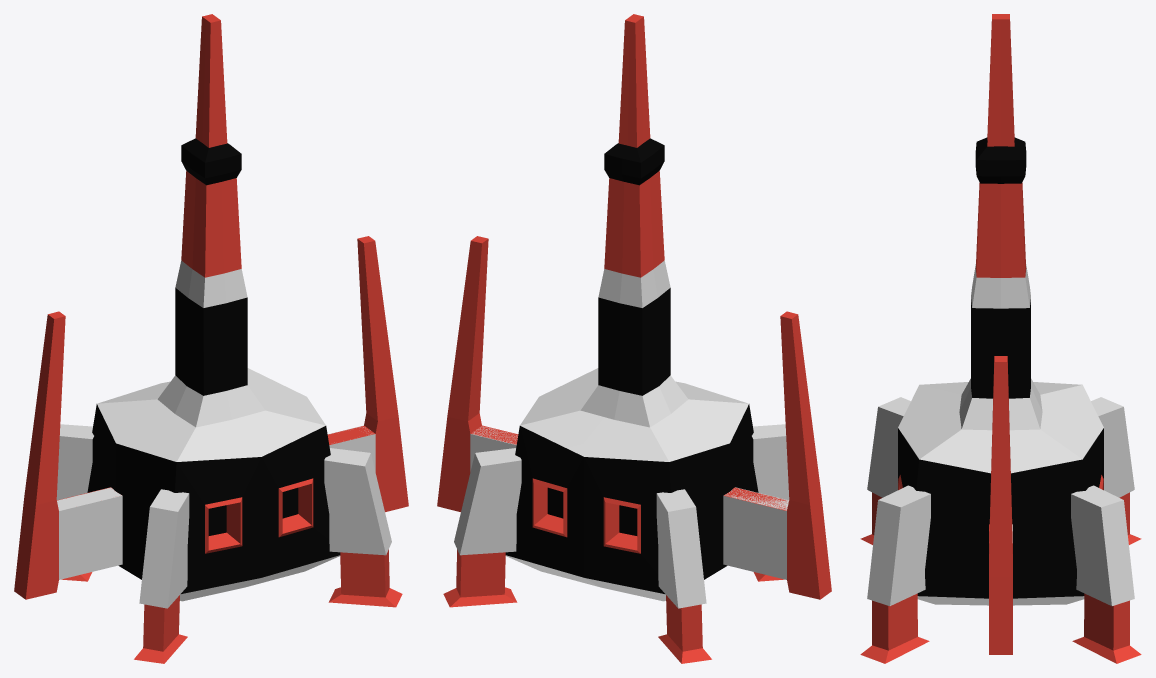
The model's file is SpaceShip 1.fbx.
The picture shows the model from 3 angles, left to right: view 1: azimuth 30°, elevation 25°; view 2: azimuth 150°, elevation 25°; view 3: azimuth 270°, elevation 25°; orthographic projection. The views are drawn at different scales.
Parts seen in each view (by area): view 1: ship; view 2: ship; view 3: ship.
Part boxes in pixels (bbox=[...]): ship: bbox=[14, 14, 408, 663]; ship: bbox=[437, 14, 831, 663]; ship: bbox=[860, 14, 1141, 663].
Bounding box in the file's own units: 1165 × 1647 × 724.
